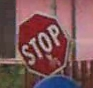stop: (15, 8, 71, 78)
